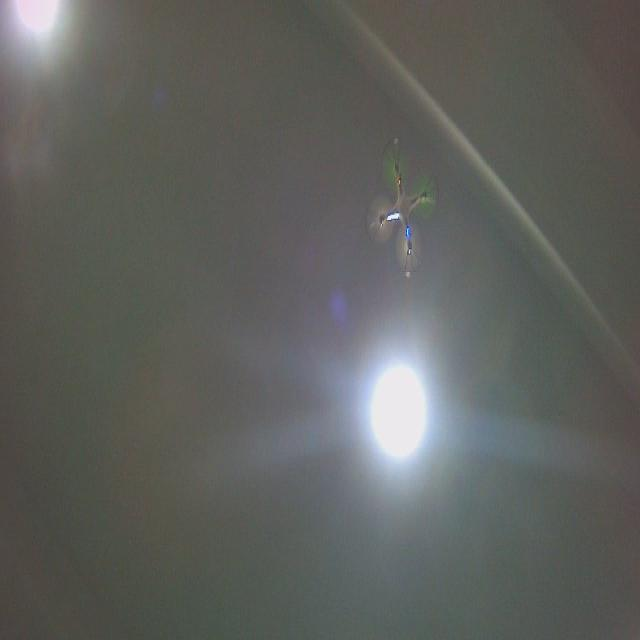drone: (362, 135, 439, 278)
